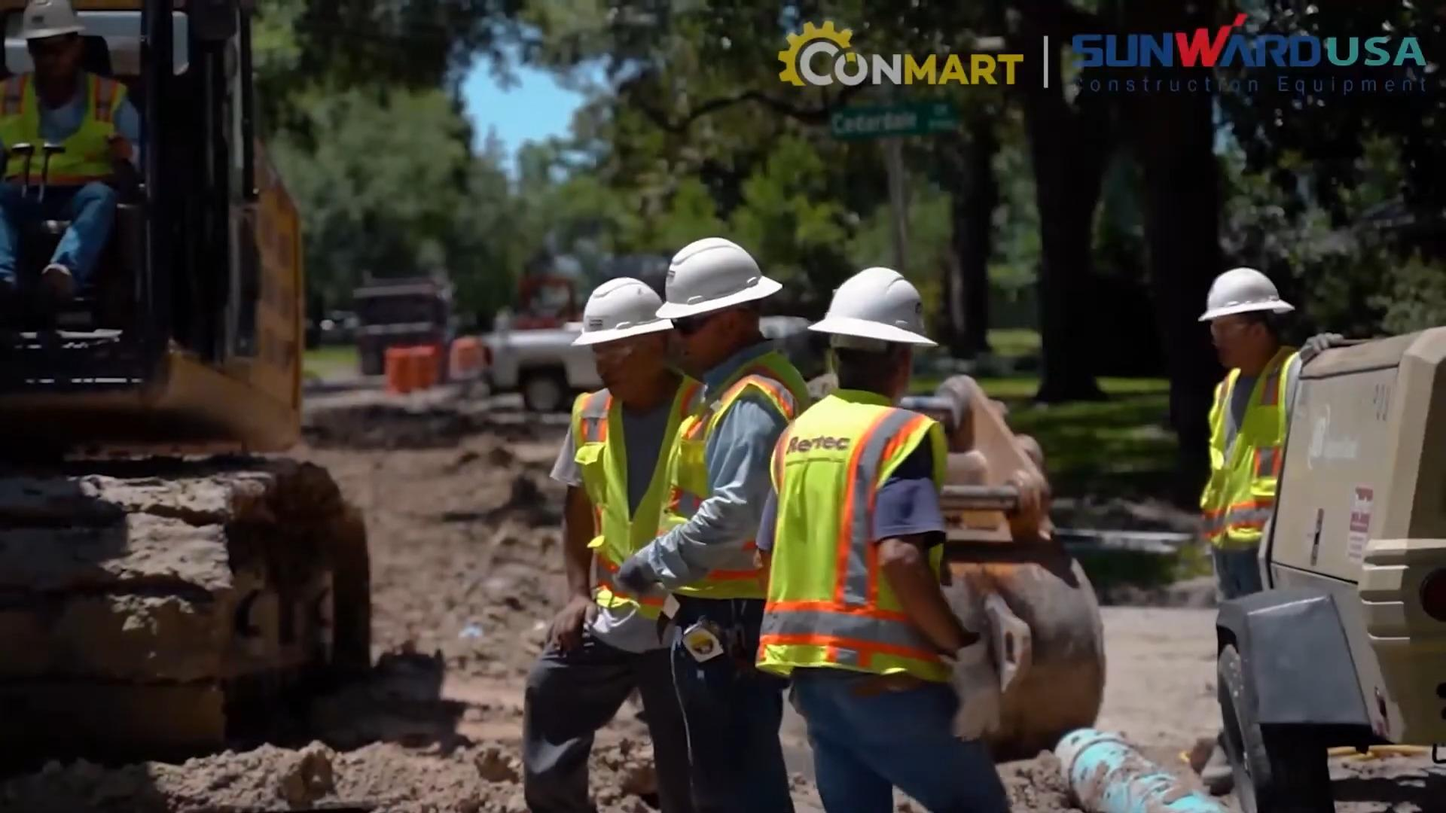Gloves: (938, 646, 1015, 745), (614, 544, 650, 589), (1303, 326, 1344, 358)
Helmet: (654, 236, 782, 320), (807, 266, 938, 348), (570, 276, 673, 347), (1199, 273, 1286, 322), (21, 0, 81, 45)
Person: (752, 265, 1017, 811), (521, 276, 707, 812), (1169, 263, 1318, 792), (667, 243, 789, 809), (0, 0, 153, 331)
Safety Boot: (47, 260, 83, 305)
Safety Vest: (789, 412, 941, 664), (574, 393, 702, 587), (691, 378, 791, 602), (0, 81, 122, 179), (1216, 382, 1301, 514)
bare-arms: (540, 583, 593, 642), (100, 130, 134, 162)
no-boot: (1052, 726, 1228, 811)
